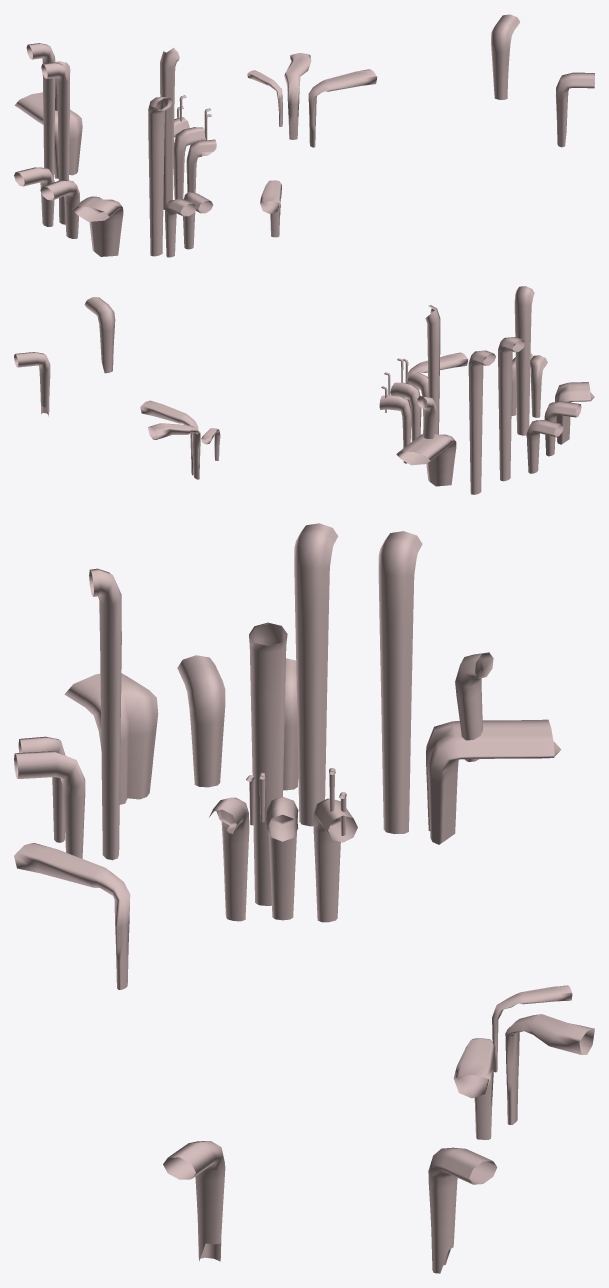
File: St_Magma.fbx
3 views of the same model, one above another, from view 1: azimuth 30°, elevation 25°; view 2: azimuth 150°, elevation 25°; view 3: azimuth 270°, elevation 25° (orthographic). The views are drawn at different scales.
Parts seen in each view (by area): view 1: polySurface60; view 2: polySurface60; view 3: polySurface60.
Part boxes in pixels (left/top/right/bottom): polySurface60: left=14, top=14, right=594, bottom=257; polySurface60: left=14, top=286, right=594, bottom=494; polySurface60: left=14, top=523, right=594, bottom=1273.
Bounding box in the file's own units: 3556 × 1174 × 1811.
